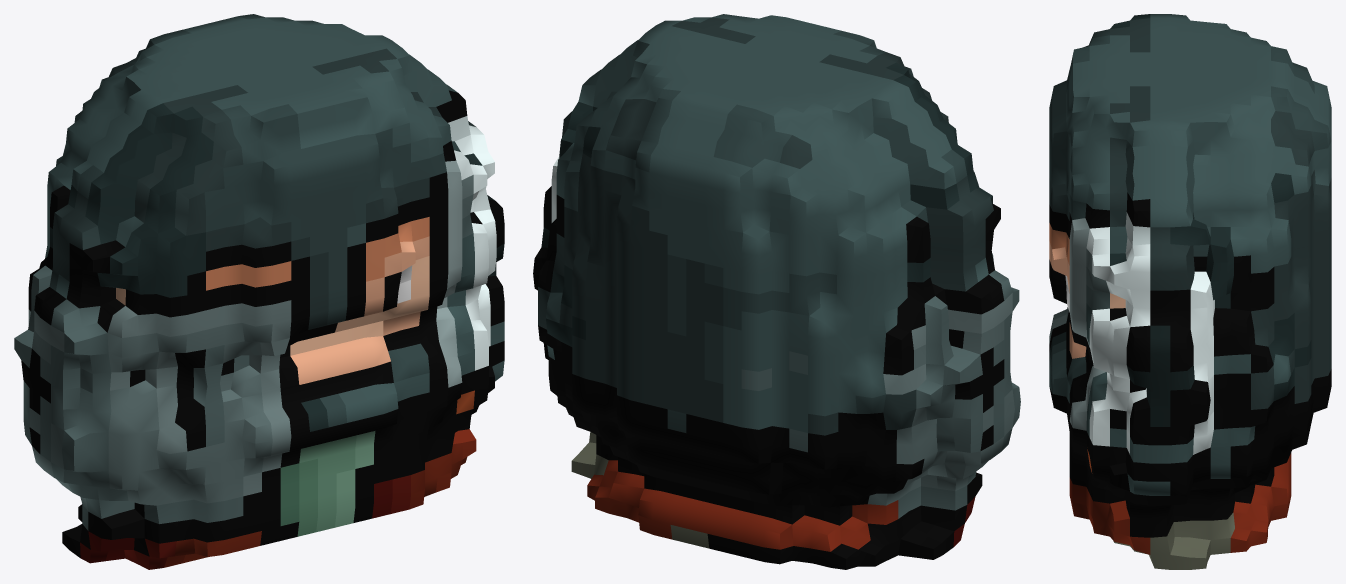
Rendered from Icon_704_03.obj.
3 renders of one model, left to right at view 1: azimuth 30°, elevation 25°; view 2: azimuth 150°, elevation 25°; view 3: azimuth 270°, elevation 25°, orthographic. The views are drawn at different scales.
Bounding box in the file's own units: 2.4 × 2.3 × 1.4.
Materials: 1 (1 with a texture image).
